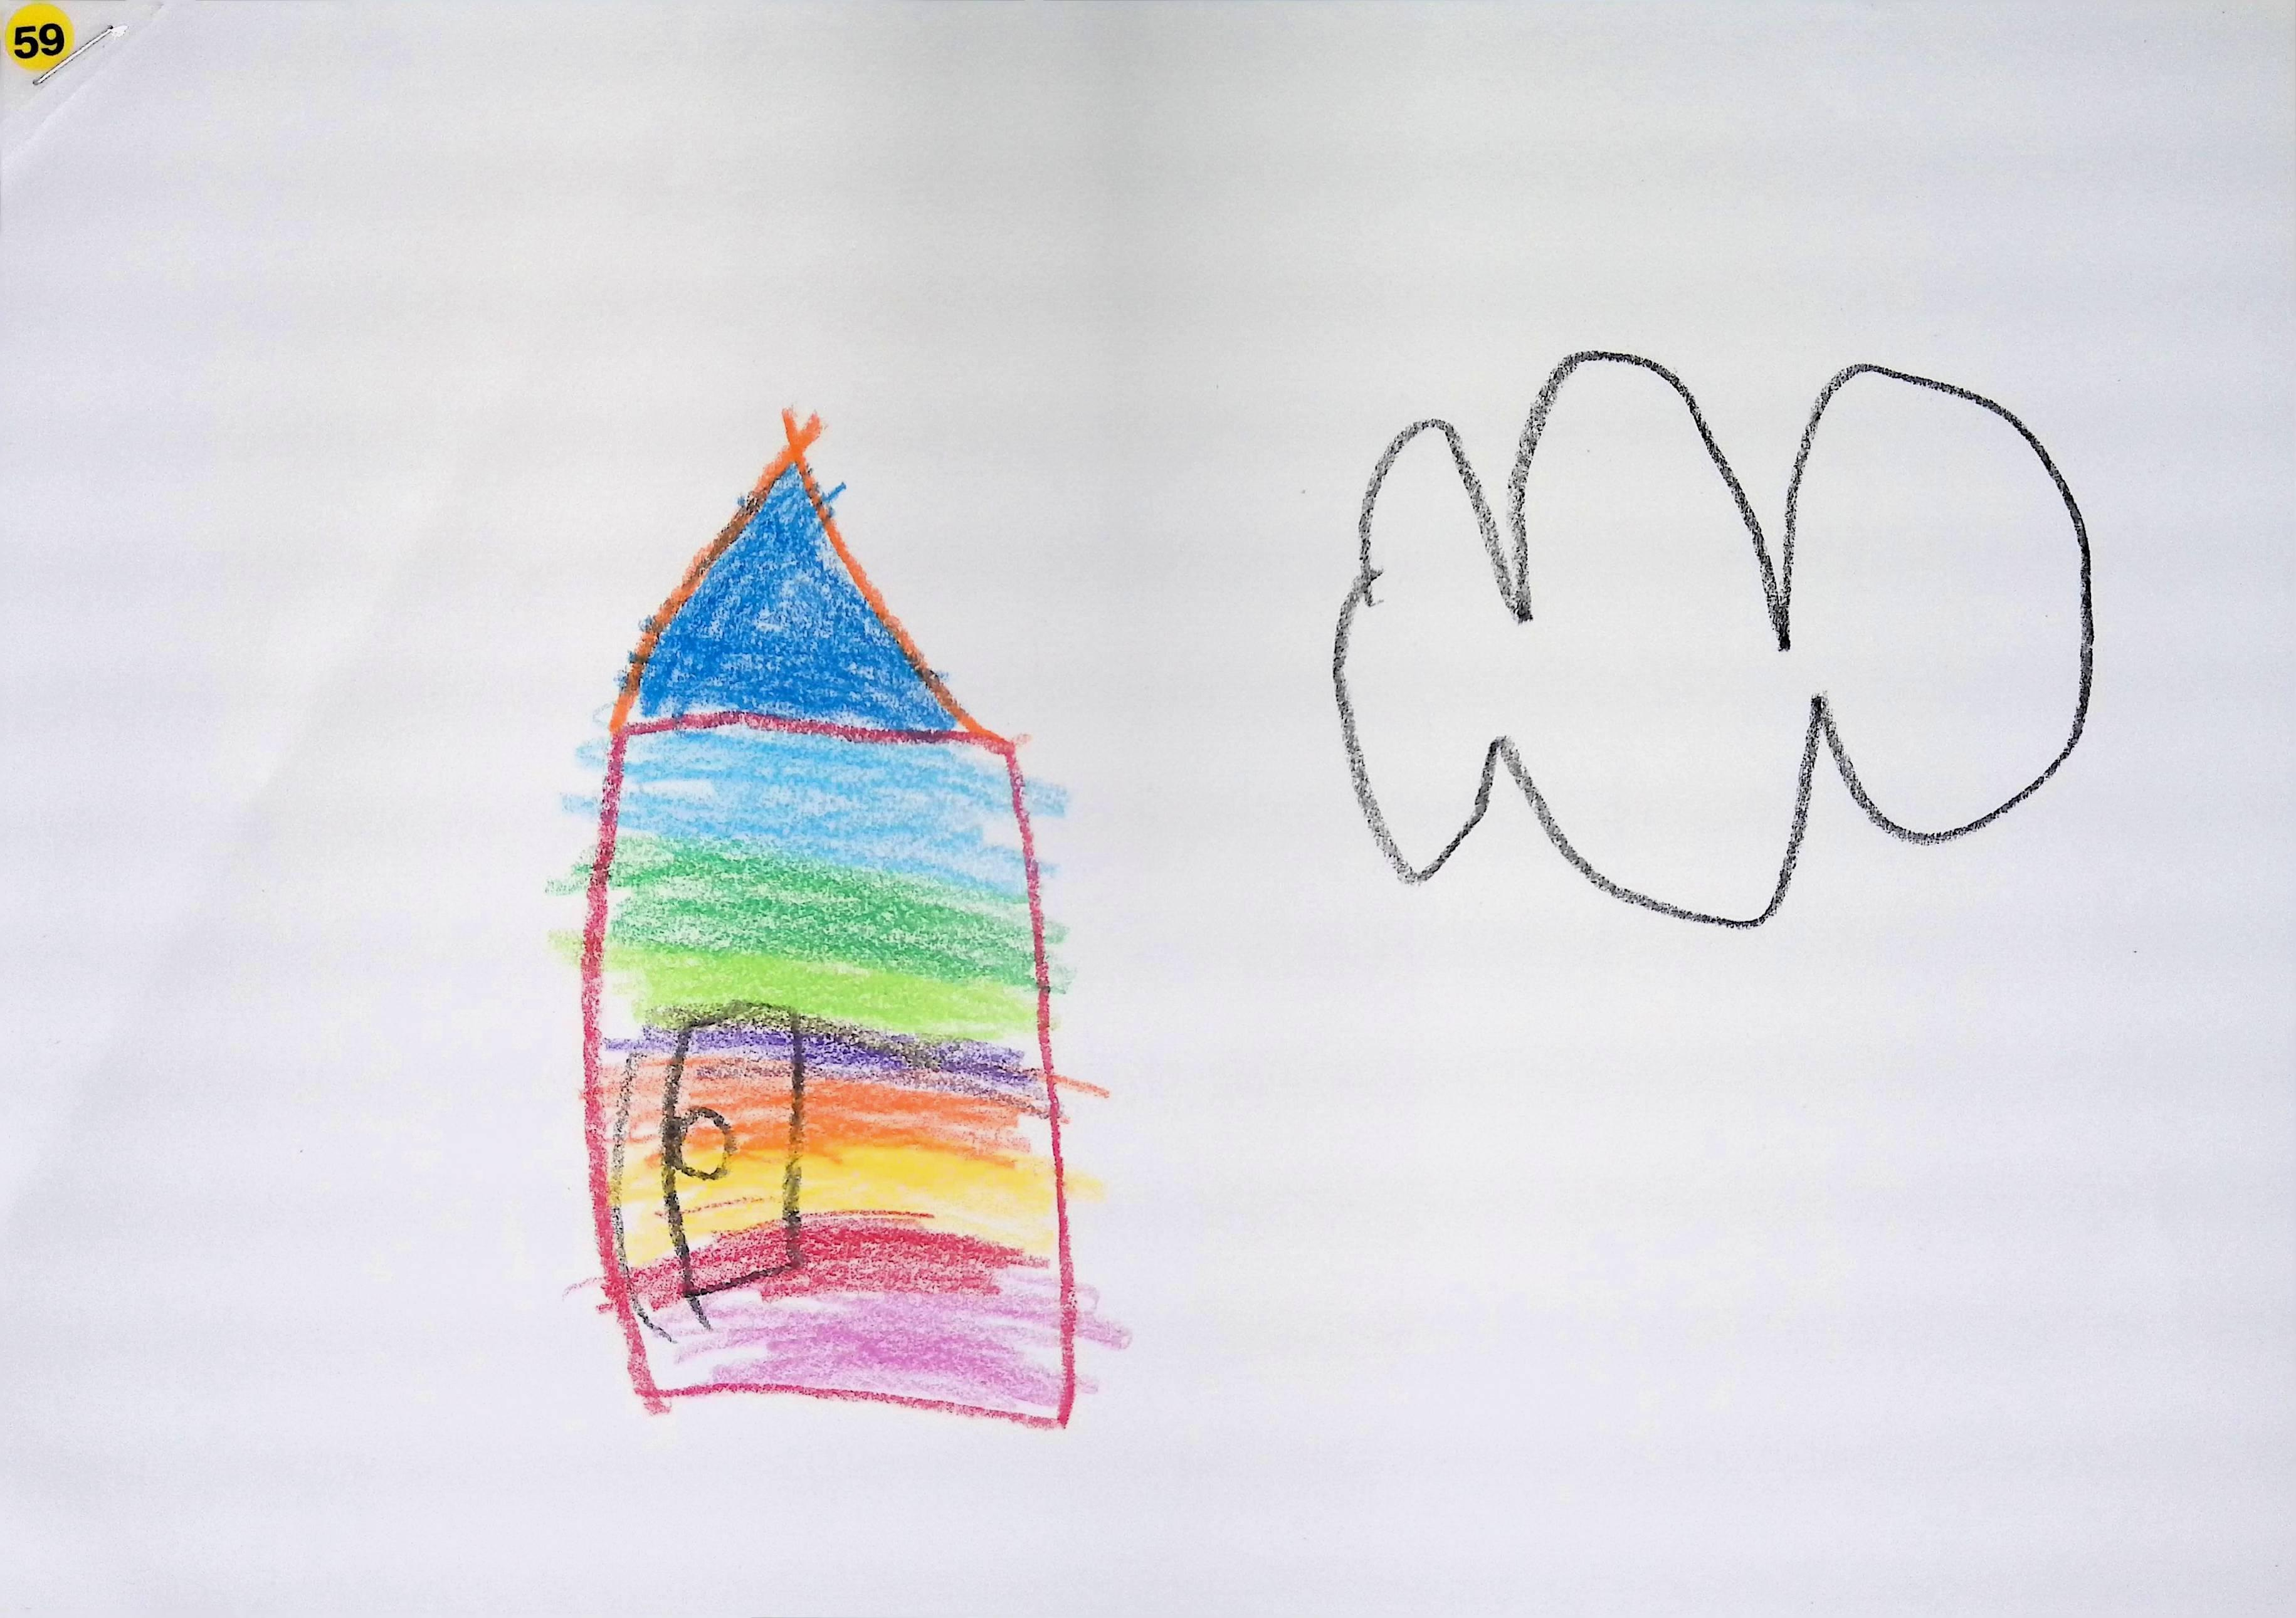door: (669, 1005, 802, 1299)
house: (571, 413, 1110, 1429)
roof: (618, 436, 998, 742)
wall: (585, 716, 1072, 1424)
